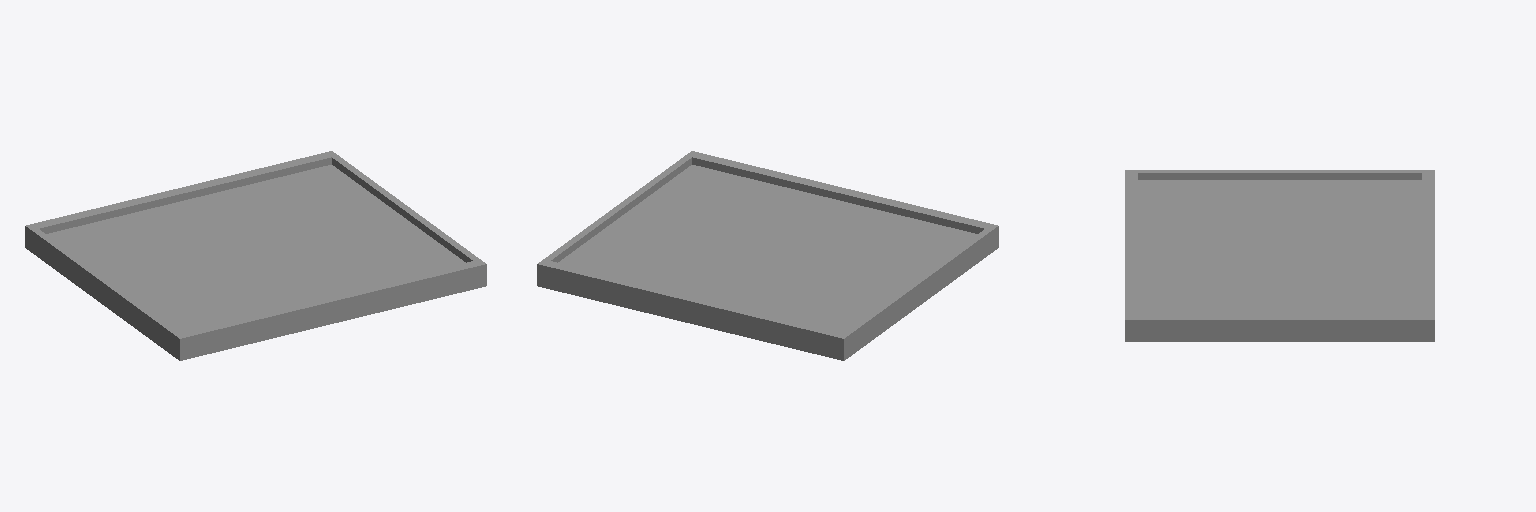
The model's file is ground.obj.
3 views of the same model, side by side, from view 1: azimuth 30°, elevation 25°; view 2: azimuth 150°, elevation 25°; view 3: azimuth 270°, elevation 25° (orthographic).
Parts seen in each view (by area): view 1: Table; view 2: Table; view 3: Table.
Part boxes in pixels (x1,y1,x2,y2): Table: (25, 151, 486, 360); Table: (537, 151, 998, 360); Table: (1125, 170, 1434, 341).
Bounding box in the file's own units: 13.42 × 0.9326 × 11.72.